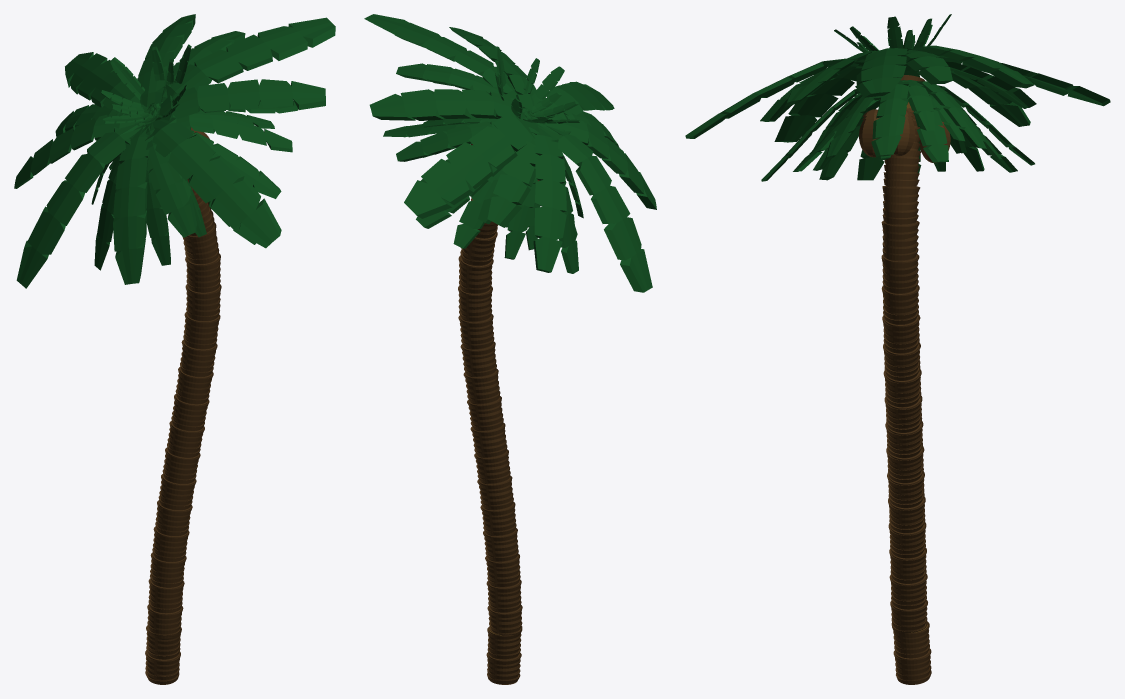
File: Palm_variant1.fbx
3 views of the same model, side by side, from view 1: azimuth 30°, elevation 25°; view 2: azimuth 150°, elevation 25°; view 3: azimuth 270°, elevation 25° (orthographic). The views are drawn at different scales.
Visible parts, largest first — view 1: foliage, trunk, stump; view 2: foliage, trunk, stump; view 3: foliage, trunk, stump.
Part boxes in pixels (x1=…): foliage: x1=14, y1=14, x2=335, y2=288; trunk: x1=147, y1=127, x2=221, y2=638; stump: x1=145, y1=625, x2=181, y2=684; foliage: x1=364, y1=14, x2=656, y2=292; trunk: x1=458, y1=144, x2=539, y2=635; stump: x1=486, y1=627, x2=522, y2=684; foliage: x1=685, y1=14, x2=1110, y2=181; trunk: x1=859, y1=75, x2=950, y2=633; stump: x1=892, y1=621, x2=931, y2=684.
Bounding box in the file's own units: 679 × 1386 × 795.
